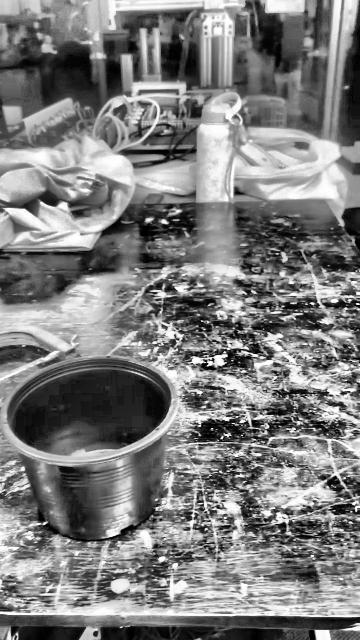pot: (2, 357, 175, 540)
